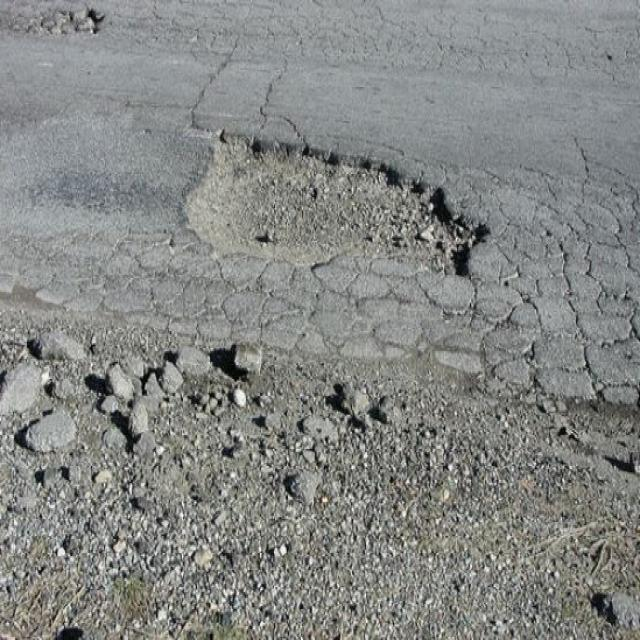pothole: (162, 124, 493, 280)
